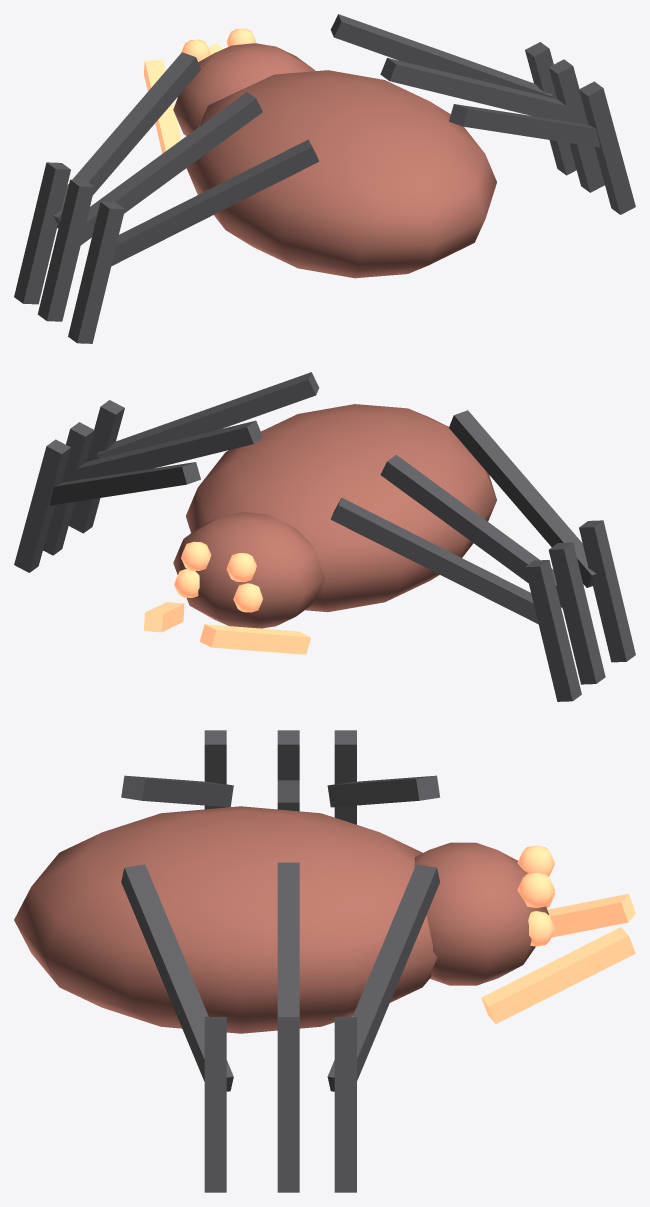
Rendered from lauerer.glb.
The picture shows the model from 3 angles, top to bottom: view 1: azimuth 30°, elevation 25°; view 2: azimuth 150°, elevation 25°; view 3: azimuth 270°, elevation 25°; orthographic projection. The views are drawn at different scales.
Visible parts, largest first — view 1: Koerper.001, Bein-12, Bein-11, Kopf, Bein-10, Bein11, Bein10, Fuss-12, Fuss-10, Fuss-11, Bein12, Fuss12 (+3 smaller); view 2: Koerper.001, Kopf, Bein-10, Bein-11, Bein-12, Bein12, Bein11, Fuss-10, Fuss-12, Fuss-11, Bein10, Fuss10 (+8 smaller); view 3: Koerper.001, Kopf, Bein12, Bein10, Klaue1, Fuss10, Fuss11, Fuss12, Bein11, Bein-12, Bein-10, Klaue-1 (+6 smaller).
Part boxes in pixels (x1,y1,x2,y2): Koerper.001: (186, 70, 496, 278); Bein-12: (111, 139, 318, 266); Bein-11: (70, 92, 262, 247); Kopf: (173, 43, 315, 135); Bein-10: (53, 52, 200, 228); Bein11: (380, 57, 581, 122); Bein10: (330, 14, 552, 97); Fuss-12: (68, 202, 124, 343); Fuss-10: (14, 162, 70, 304); Fuss-11: (37, 179, 94, 321); Bein12: (449, 104, 600, 147); Fuss12: (579, 81, 635, 214); Koerper.001: (186, 404, 496, 612); Kopf: (173, 512, 325, 628); Bein-10: (331, 497, 538, 624); Bein-11: (380, 454, 572, 610); Bein-12: (449, 410, 596, 587); Bein12: (97, 372, 319, 458); Bein11: (63, 420, 262, 481); Fuss-10: (525, 560, 581, 701); Fuss-12: (579, 520, 635, 662); Fuss-11: (548, 542, 605, 684); Bein10: (49, 462, 200, 505); Fuss10: (14, 439, 70, 572); Koerper.001: (14, 806, 436, 1033); Kopf: (414, 842, 548, 985); Bein12: (121, 864, 233, 1091); Bein10: (327, 864, 439, 1091); Klaue1: (481, 927, 635, 1023); Fuss10: (334, 1017, 356, 1192); Fuss11: (277, 1017, 299, 1192); Fuss12: (204, 1017, 226, 1192); Bein11: (277, 862, 299, 1016); Bein-12: (121, 775, 233, 807); Bein-10: (327, 775, 440, 807); Klaue-1: (547, 893, 635, 937).
Size of the model in its own units: 2.45 by 0.7366 by 1.96.
